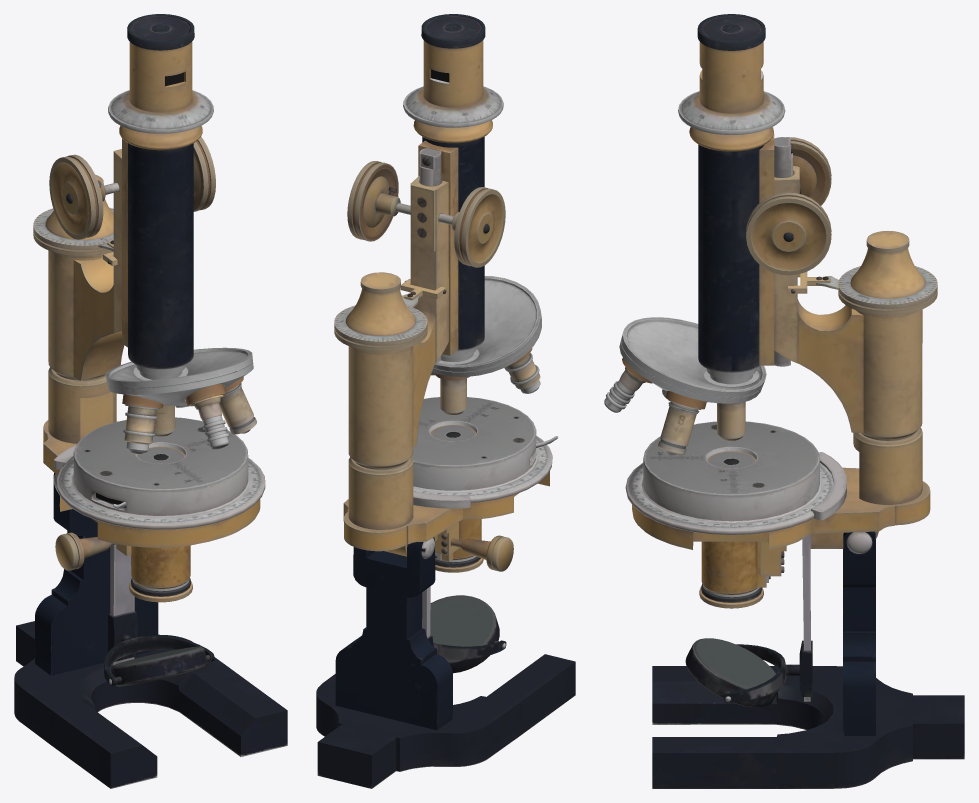
Rendered from microscope.glb.
3 views of the same model, side by side, from view 1: azimuth 30°, elevation 25°; view 2: azimuth 150°, elevation 25°; view 3: azimuth 270°, elevation 25° (orthographic). The views are drawn at different scales.
Visible parts, largest first — view 1: vintage_microscope_mirror_arm, vintage_microscope_mirror_base; view 2: vintage_microscope_mirror_arm, vintage_microscope_mirror_base; view 3: vintage_microscope_mirror_arm, vintage_microscope_mirror_base.
Boxes of the visible parts, x1,y1,x2,y2 form: vintage_microscope_mirror_arm: (14, 14, 287, 788); vintage_microscope_mirror_base: (112, 646, 206, 686); vintage_microscope_mirror_arm: (316, 14, 575, 788); vintage_microscope_mirror_base: (430, 595, 495, 661); vintage_microscope_mirror_arm: (604, 14, 964, 788); vintage_microscope_mirror_base: (690, 638, 775, 707).
Size of the model in its own units: 0.1068 by 0.3996 by 0.1818.
2 materials, 2 textured.
